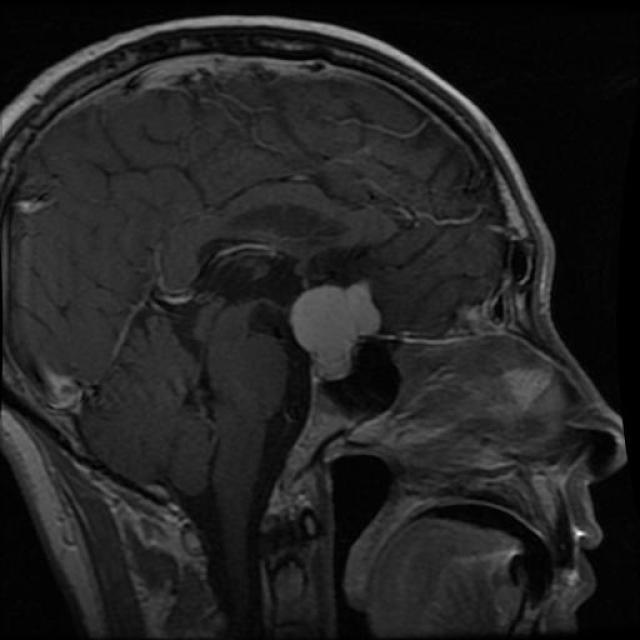meningioma: (290, 280, 382, 384)
